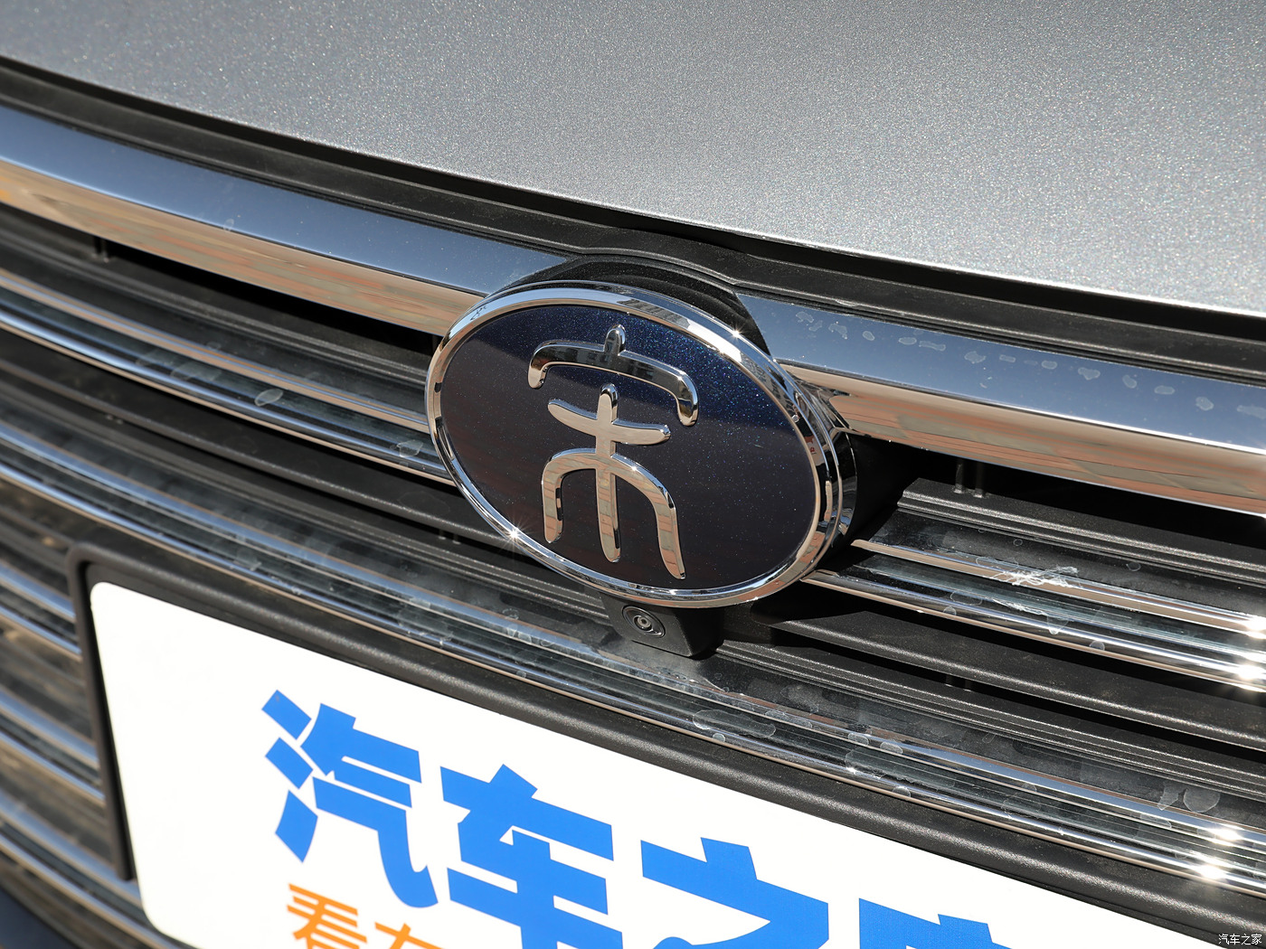BYD Song: (426, 289, 836, 607)
